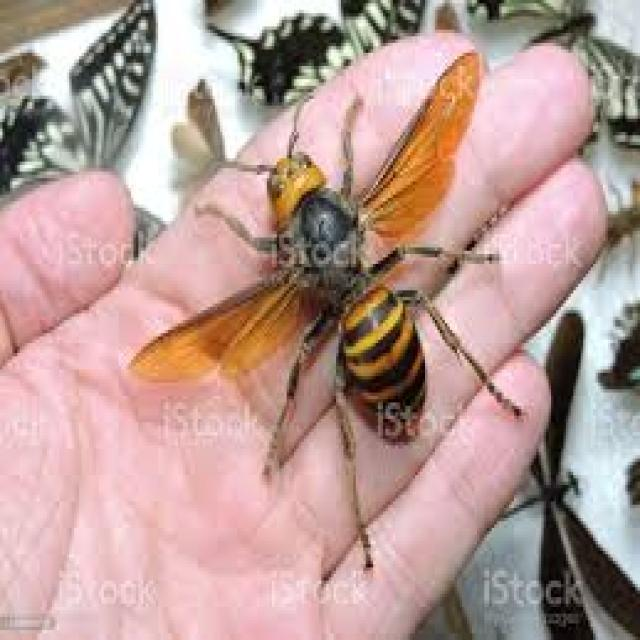Wasp: (138, 53, 488, 452)
